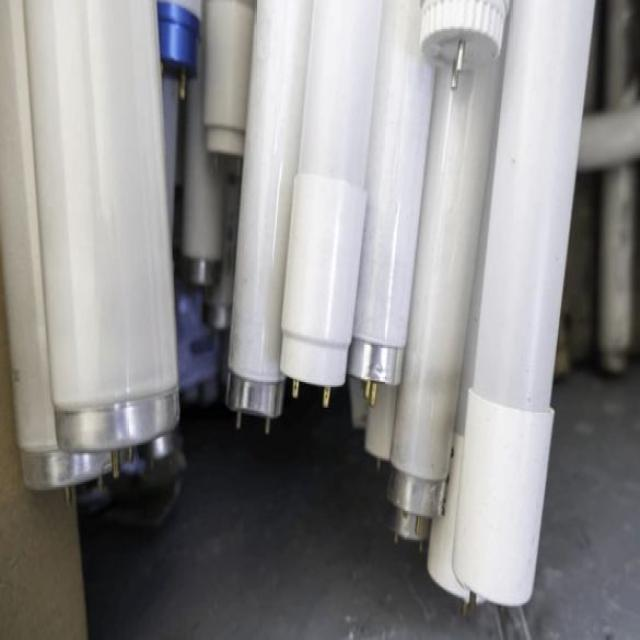electronic: (0, 0, 606, 614), (0, 0, 186, 519), (418, 0, 509, 74)
